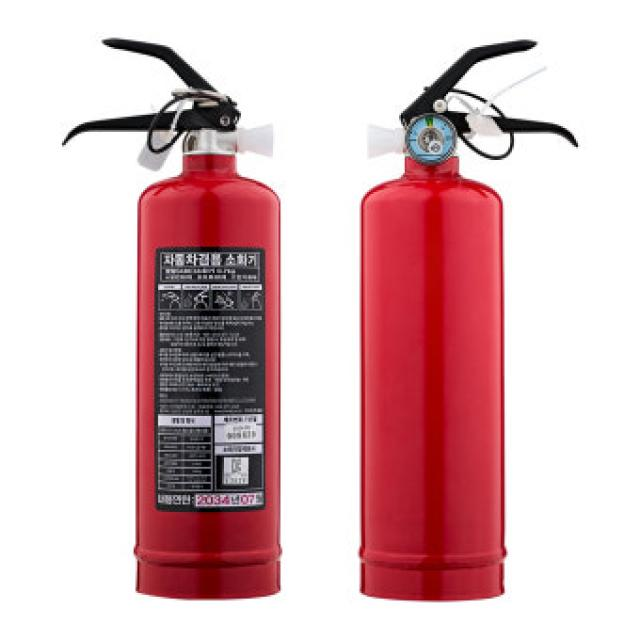pressure gauge: (405, 113, 457, 163)
